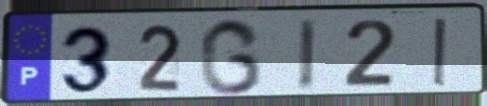2: (342, 17, 402, 90), (136, 22, 185, 93)
3: (57, 22, 123, 98)
G: (197, 16, 265, 97)
I: (295, 17, 320, 93), (430, 16, 451, 89)
